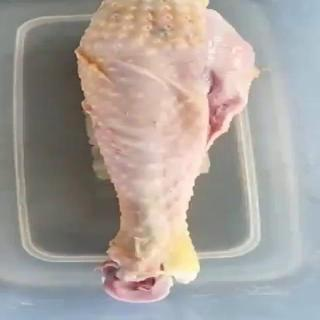Ayam: (73, 1, 262, 304)
